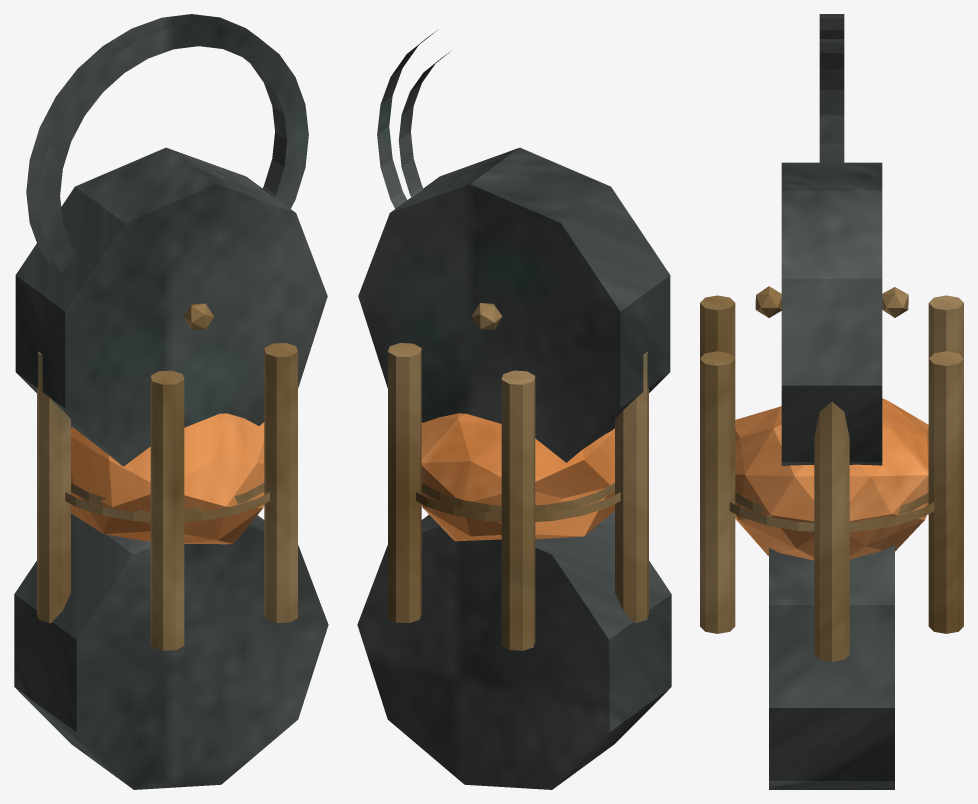
File: 0905_lantern_05.glb
The picture shows the model from 3 angles, left to right: view 1: azimuth 30°, elevation 25°; view 2: azimuth 150°, elevation 25°; view 3: azimuth 270°, elevation 25°; orthographic projection.
Visible parts, largest first — view 1: iron, brass, amber; view 2: iron, brass, amber; view 3: iron, brass, amber.
Part boxes in pixels (bbox=[...]): iron: bbox=[14, 14, 328, 789]; brass: bbox=[37, 303, 297, 650]; amber: bbox=[71, 413, 264, 544]; iron: bbox=[357, 30, 671, 789]; brass: bbox=[388, 303, 648, 650]; amber: bbox=[421, 413, 614, 541]; iron: bbox=[769, 14, 894, 789]; brass: bbox=[700, 286, 963, 661]; amber: bbox=[735, 398, 928, 560].
Size of the model in its own units: 0.5 by 1.32 by 0.4197.
Materials: 3 (3 with a texture image).
